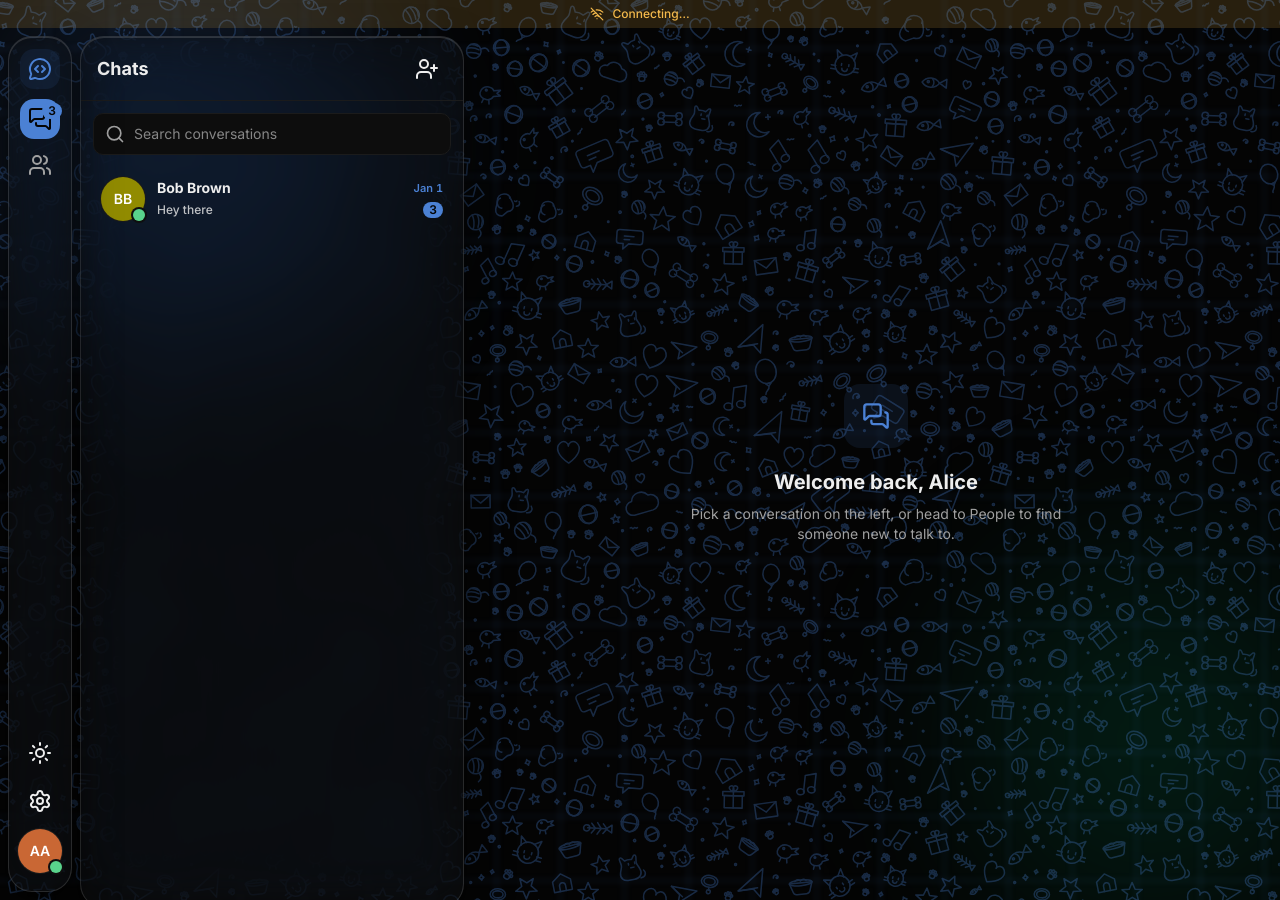
Test: confirming destructive actions › asks before signing out from the rail
Click the button with aria-label "account menu": [40, 854] box [18,829,62,879]
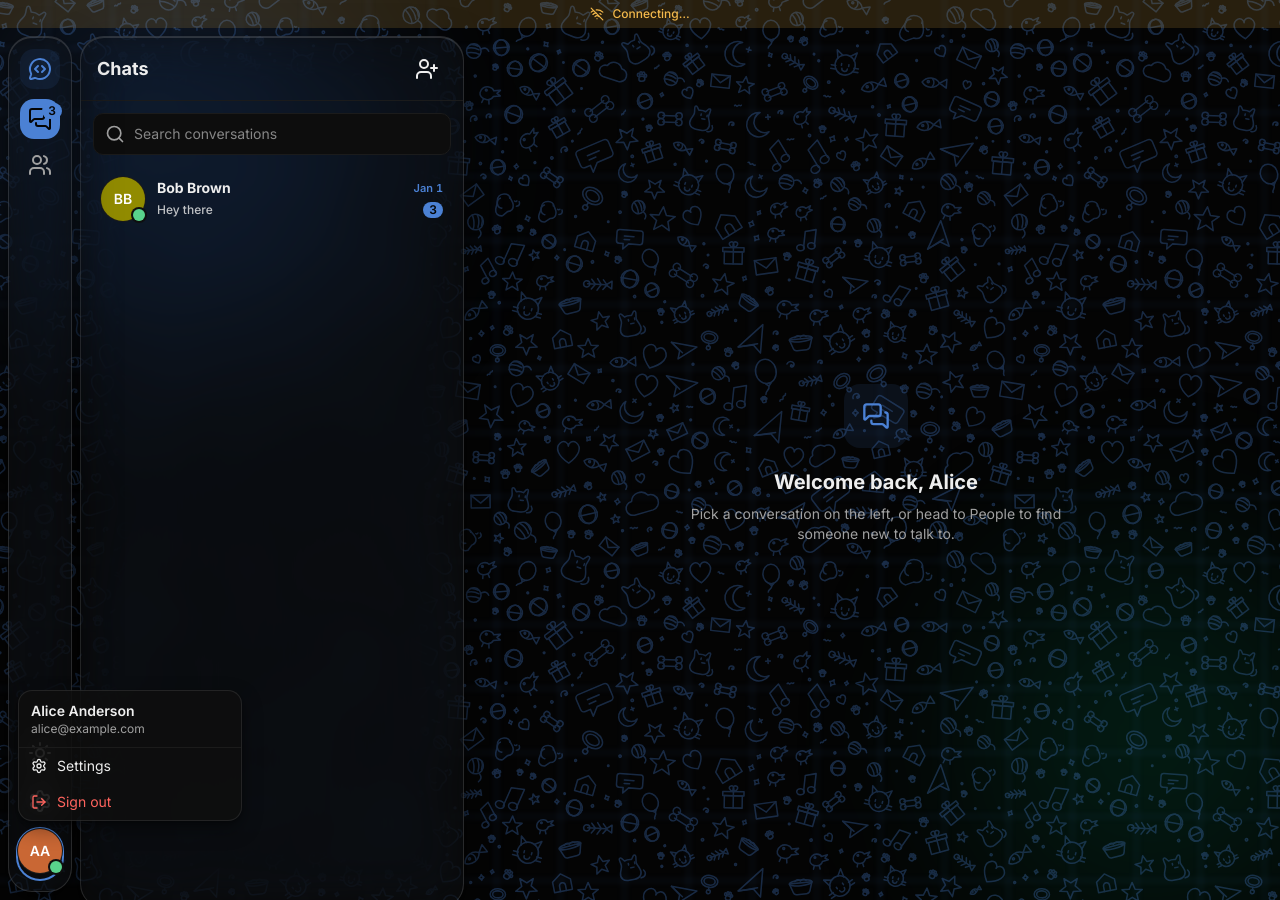
Click the menu item "Sign out": [130, 802] box [19,784,241,820]
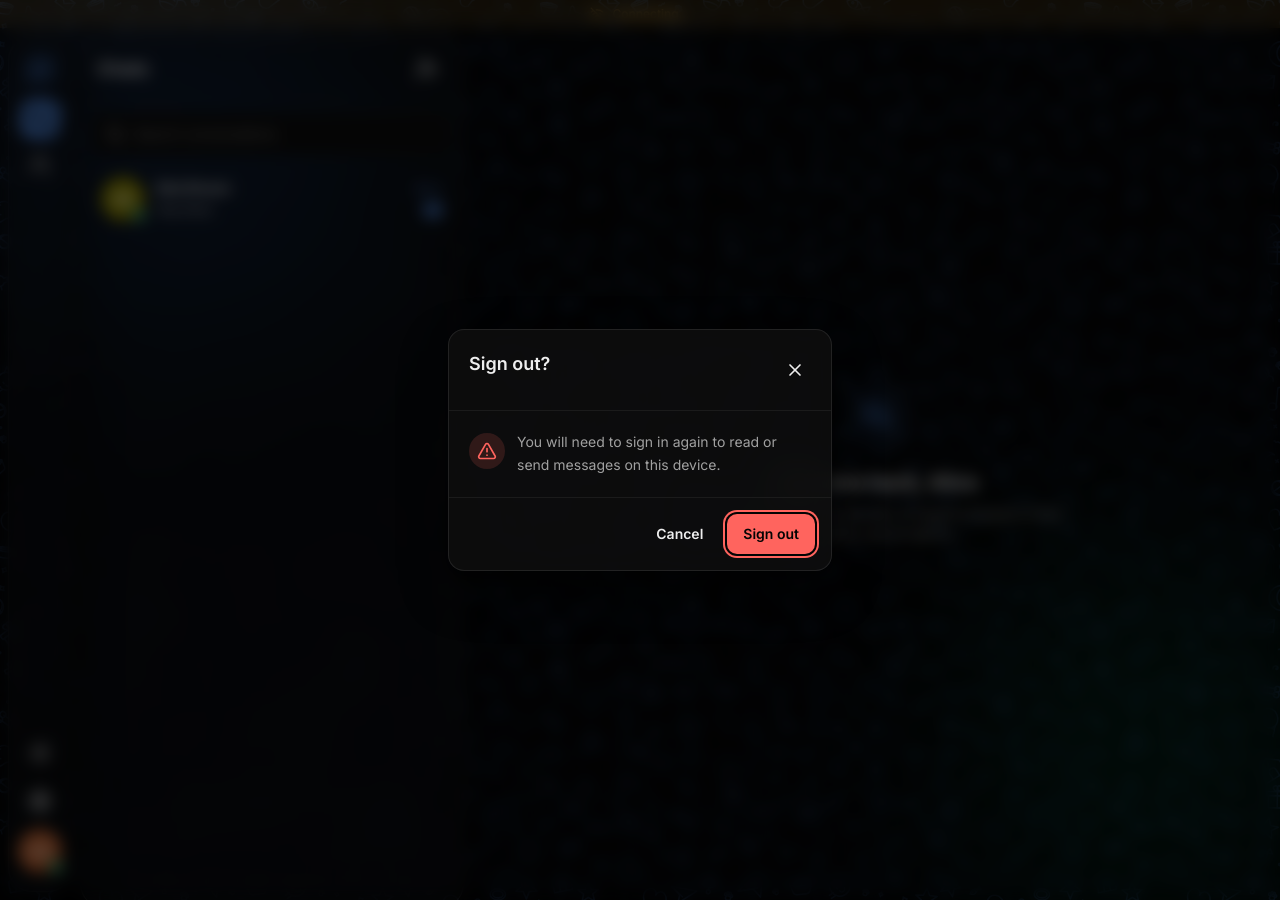
Check: the heading "Sign out?" is shown, box [469,350,550,378]
